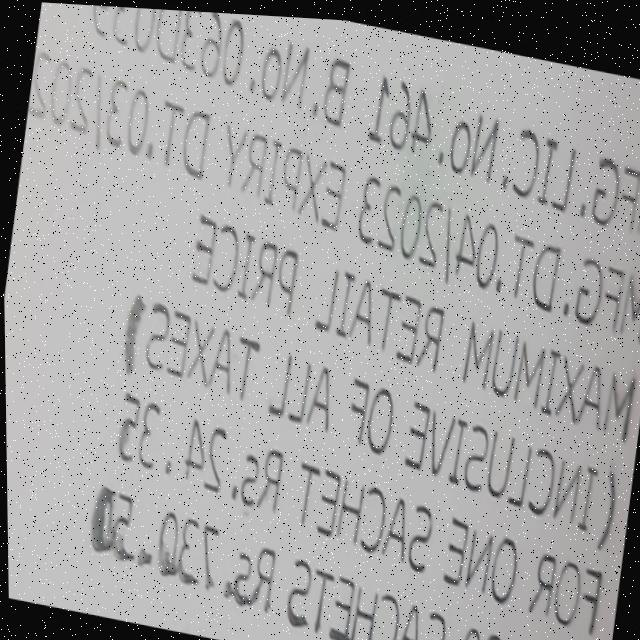sentence: (27, 52, 640, 339), (93, 4, 640, 229), (123, 296, 615, 544), (115, 388, 602, 629), (190, 210, 635, 435), (89, 483, 505, 640)
